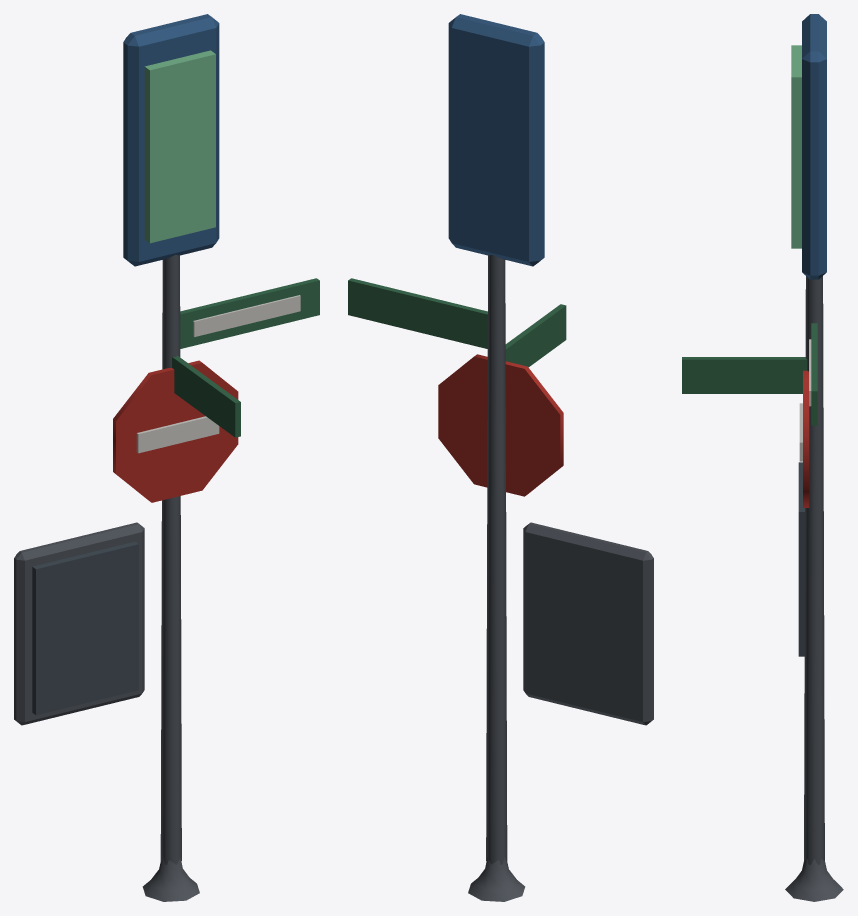
The model's file is wayfinding_pylon_01.glb.
The picture shows the model from 3 angles, left to right: view 1: azimuth 30°, elevation 25°; view 2: azimuth 150°, elevation 25°; view 3: azimuth 270°, elevation 25°; orthographic projection.
Visible parts, largest first — view 1: wayfinding_pylon_01; view 2: wayfinding_pylon_01; view 3: wayfinding_pylon_01.
Boxes of the visible parts, x1=… form: wayfinding_pylon_01: x1=14, y1=14, x2=319, y2=901; wayfinding_pylon_01: x1=348, y1=14, x2=653, y2=901; wayfinding_pylon_01: x1=682, y1=14, x2=843, y2=901.
Size of the model in its own units: 1.65 by 4.5 by 0.7699.
